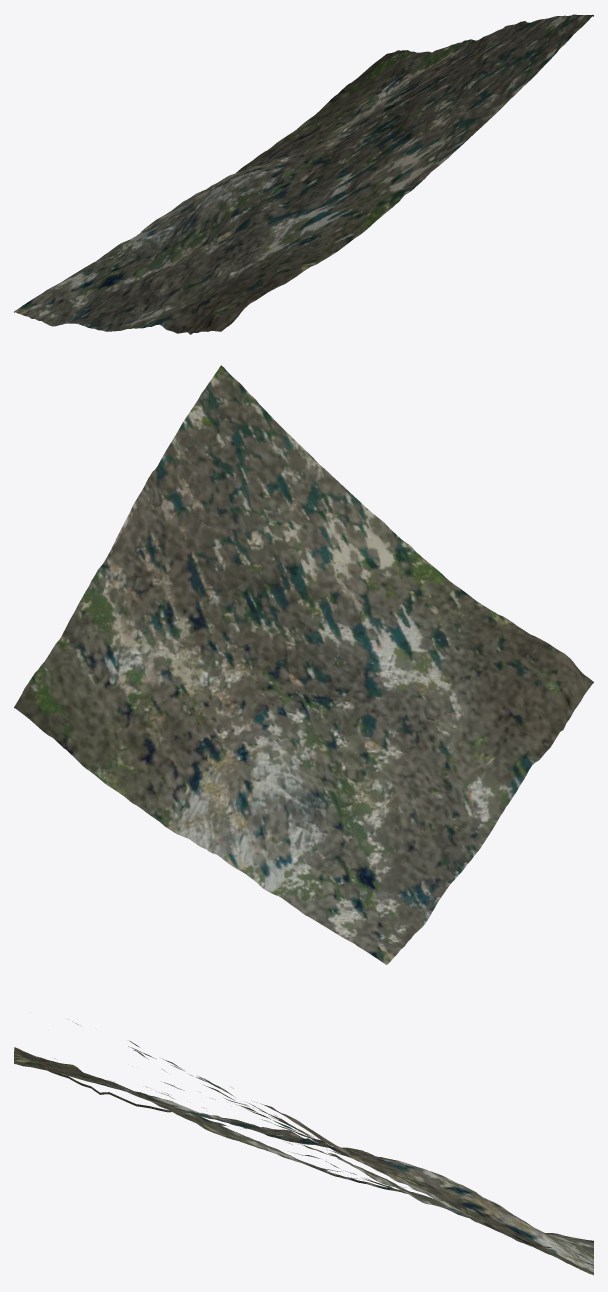
3 views of the same model, one above another, from view 1: azimuth 30°, elevation 25°; view 2: azimuth 150°, elevation 25°; view 3: azimuth 270°, elevation 25° (orthographic). The views are drawn at different scales.
Bounding box in the file's own units: 250 × 230 × 241.
Materials: 1 (1 with a texture image).
